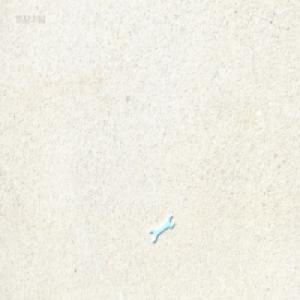Wrench: (149, 216, 174, 244)
